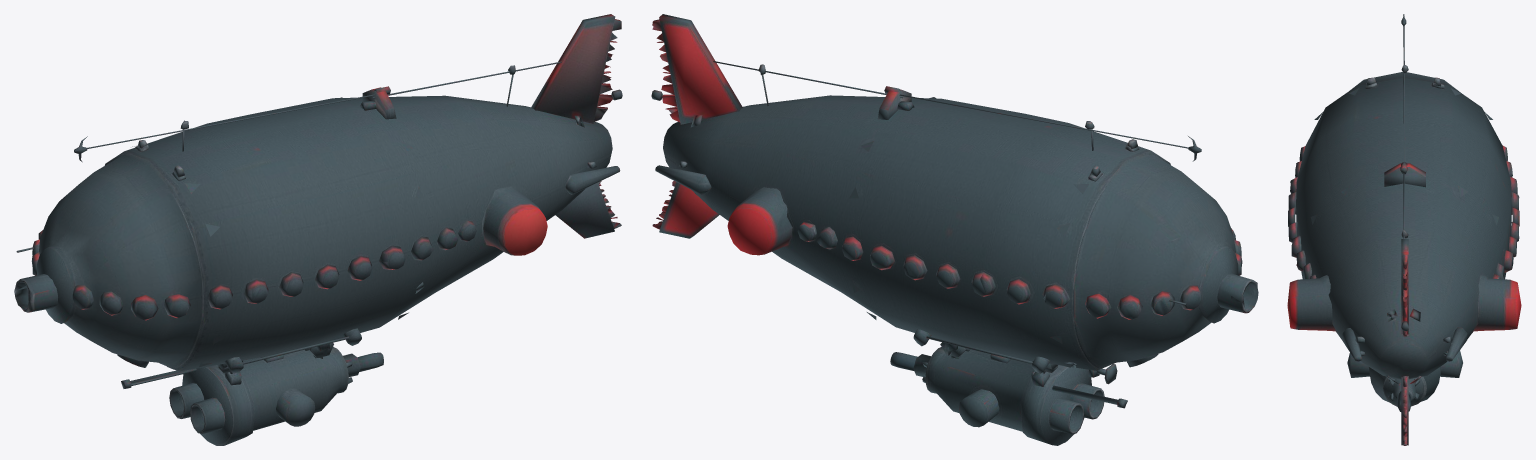
File: boss_airship.glb
The picture shows the model from 3 angles, left to right: view 1: azimuth 30°, elevation 25°; view 2: azimuth 150°, elevation 25°; view 3: azimuth 270°, elevation 25°; orthographic projection. The views are drawn at different scales.
Size of the model in its own units: 0.9541 by 0.5107 by 0.3589.
1 material, 1 textured.
